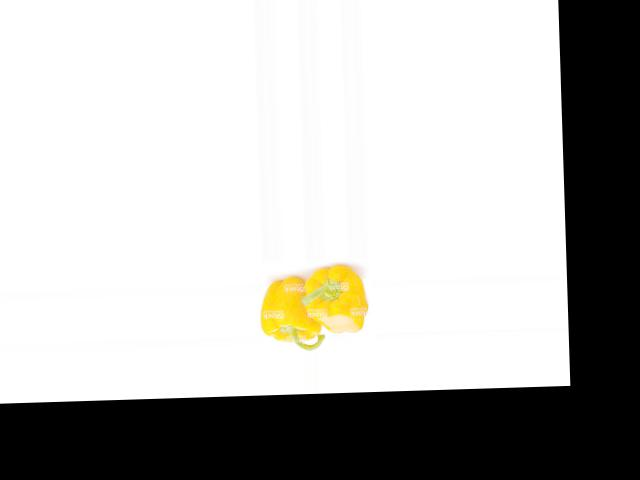bell_pepper: (257, 274, 328, 349)
